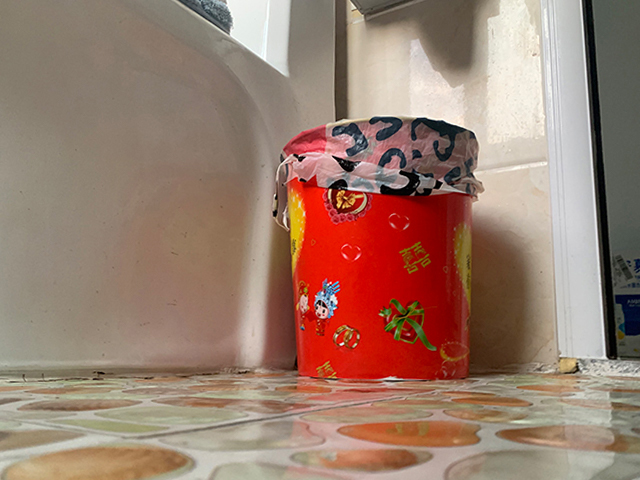closestool: (1, 1, 335, 376)
trashcan: (281, 116, 482, 383)
